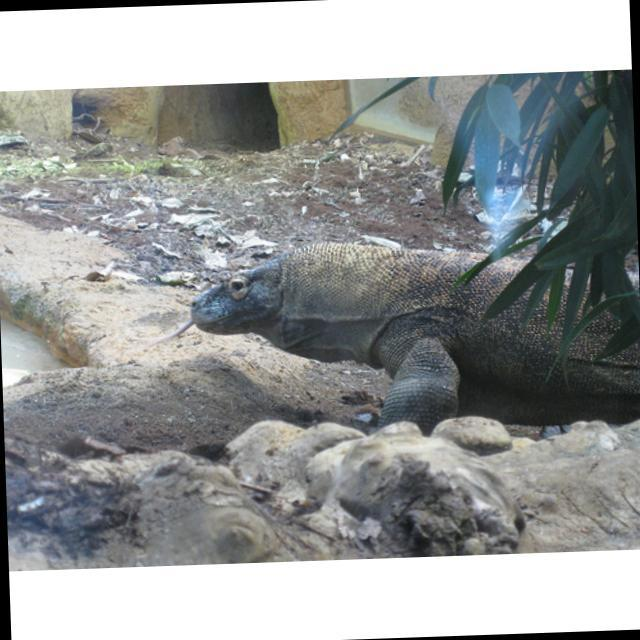KomodoDragon: (188, 226, 640, 459)
